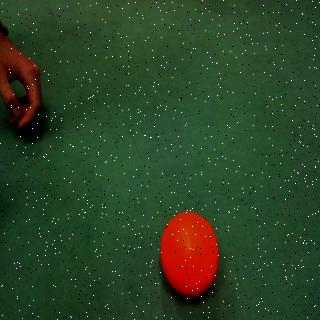orange: (160, 207, 222, 303)
